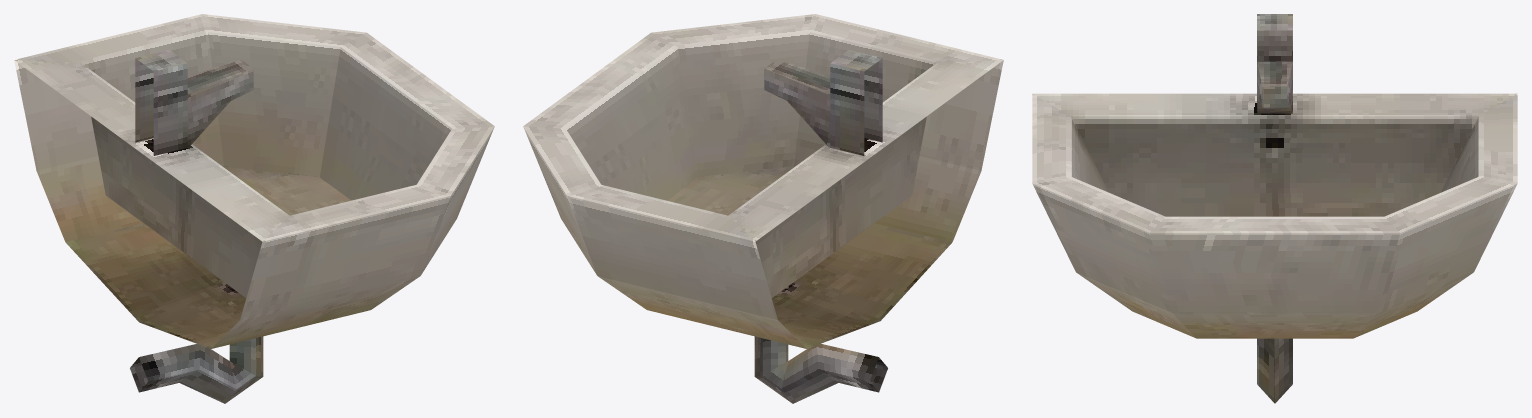
The model's file is dirty_sink.glb.
The picture shows the model from 3 angles, left to right: view 1: azimuth 30°, elevation 25°; view 2: azimuth 150°, elevation 25°; view 3: azimuth 270°, elevation 25°; orthographic projection. The views are drawn at different scales.
Visible parts, largest first — view 1: Cube.001; view 2: Cube.001; view 3: Cube.001.
Boxes of the visible parts, left/top/right/bottom form: Cube.001: left=14, top=14, right=494, bottom=403; Cube.001: left=523, top=14, right=1003, bottom=403; Cube.001: left=1032, top=14, right=1517, bottom=403.
Bounding box in the file's own units: 0.6801 × 0.797 × 1.
1 material, 1 textured.
